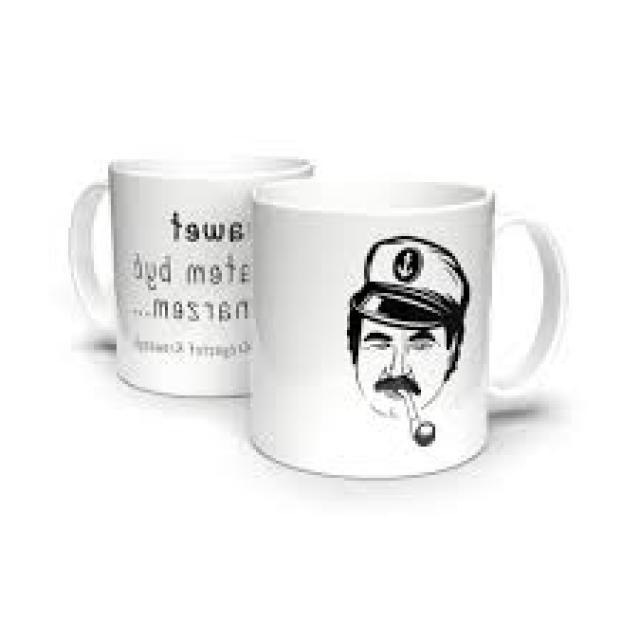Coffee Mug: (249, 179, 566, 478), (72, 158, 316, 394)
